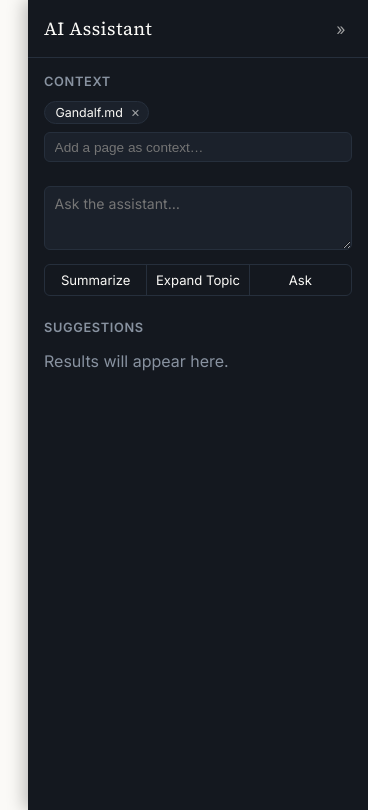
Test: AiAssistantPanel › refuses to Ask with no question typed
Expected: the heading "Context" is shown, [44, 74, 111, 89]
Click the button "Ask". click: (300, 280)
box: [250, 265, 351, 295]
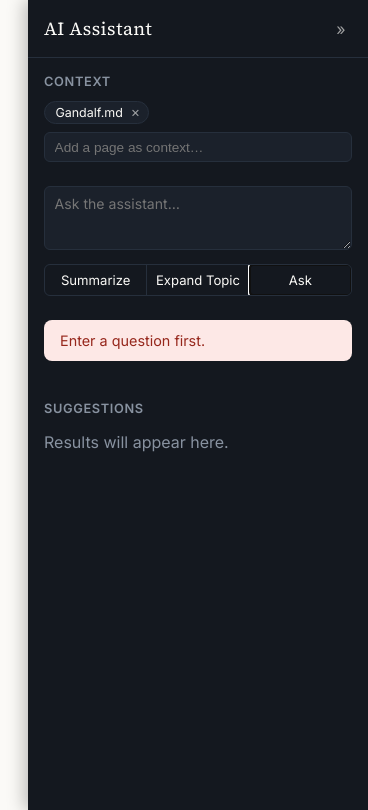
Expected: the text "Enter a question first." is shown, [44, 320, 352, 361]
